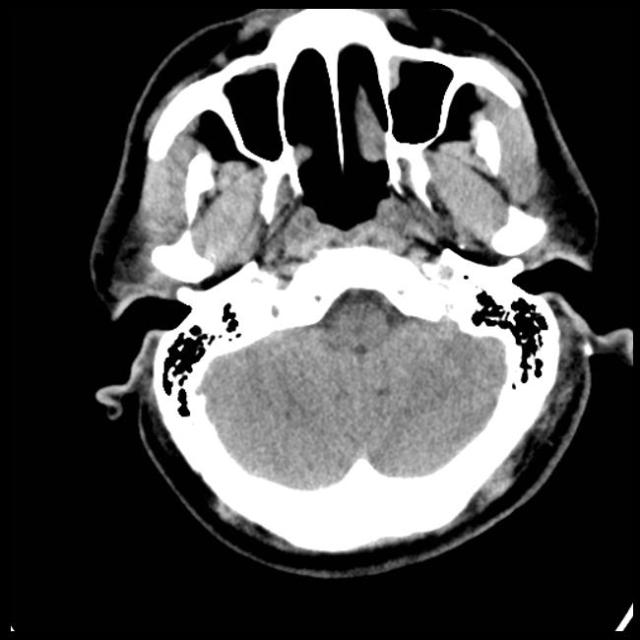lesion: (87, 5, 632, 579)
